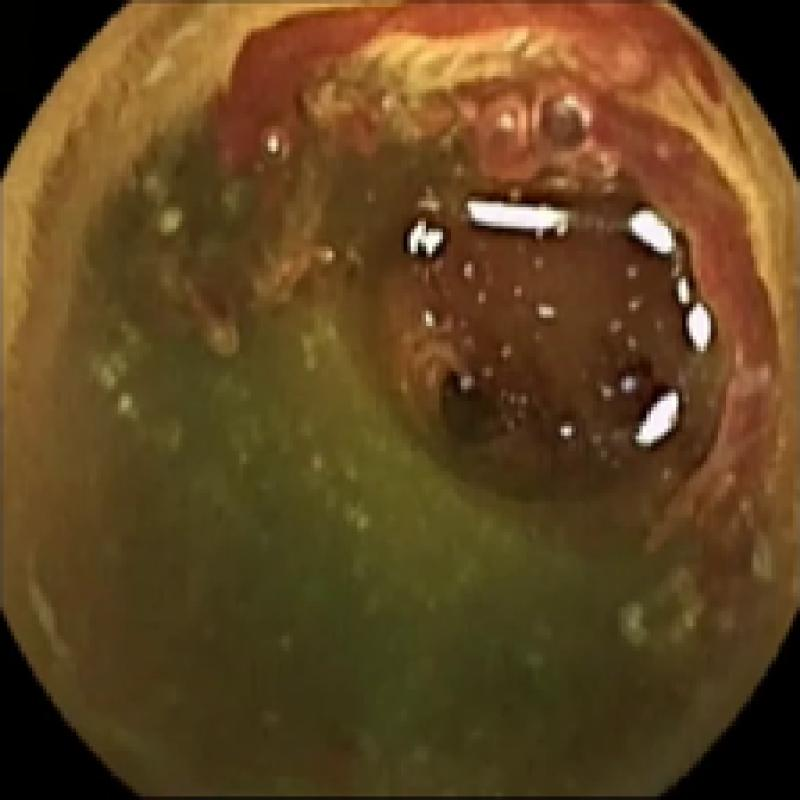bleeding: (180, 0, 789, 589)
